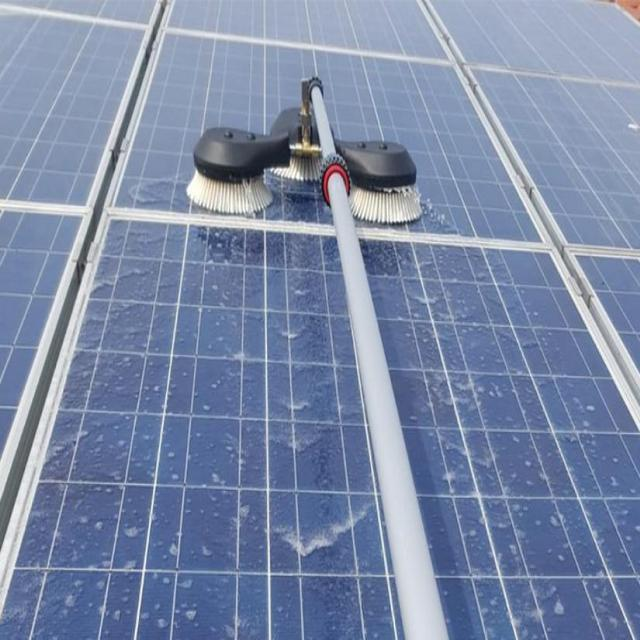dust-solar-panel: (1, 2, 640, 638)
